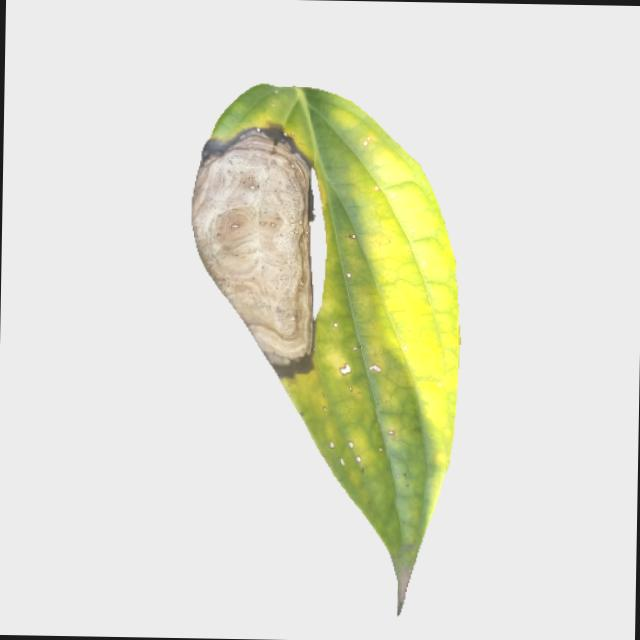leaf-blight: (165, 88, 462, 614)
